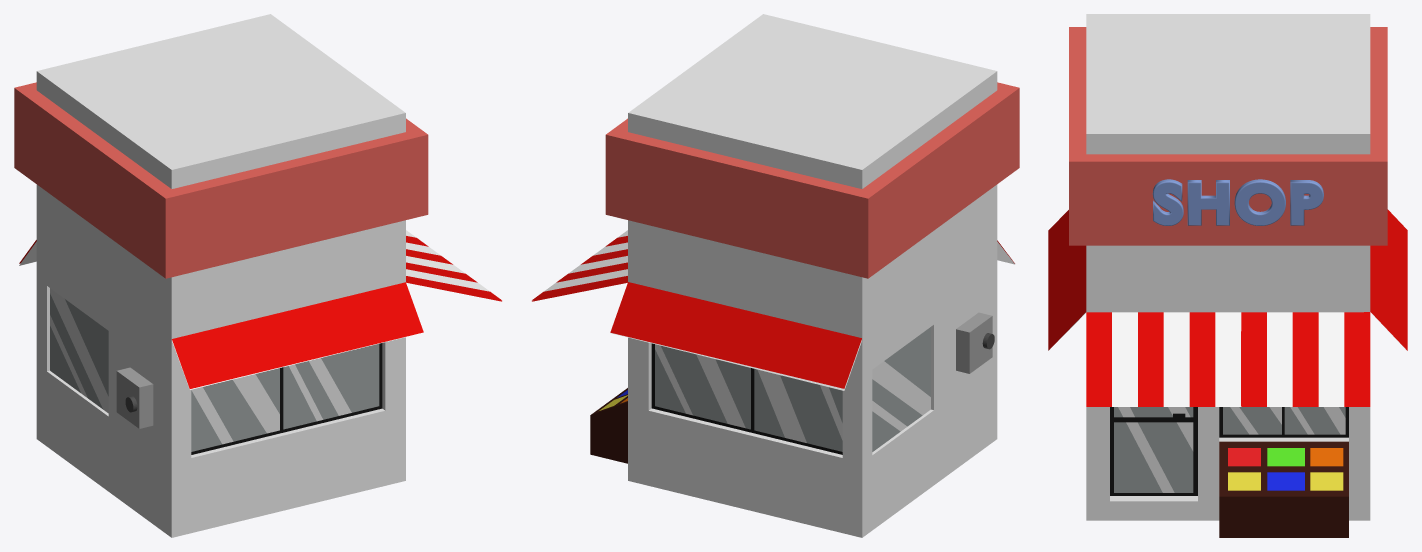
The model's file is Shop.fbx.
The picture shows the model from 3 angles, left to right: view 1: azimuth 30°, elevation 25°; view 2: azimuth 150°, elevation 25°; view 3: azimuth 270°, elevation 25°; orthographic projection. The views are drawn at different scales.
Visible parts, largest first — view 1: Batiment, Toit, Aeration Cube; view 2: Batiment, Toit, Aeration Cube; view 3: Batiment, Toit, SHOP.
Part boxes in pixels (x1,y1,x2,y2): Batiment: (19, 14, 501, 537); Toit: (14, 82, 428, 278); Aeration Cube: (116, 367, 153, 428); Batiment: (532, 14, 1014, 537); Toit: (605, 82, 1019, 278); Aeration Cube: (956, 312, 992, 373); Batiment: (1048, 14, 1407, 537); Toit: (1069, 27, 1387, 245); SHOP: (1152, 179, 1323, 225).
Bounding box in the file's own units: 720 × 726 × 612.
